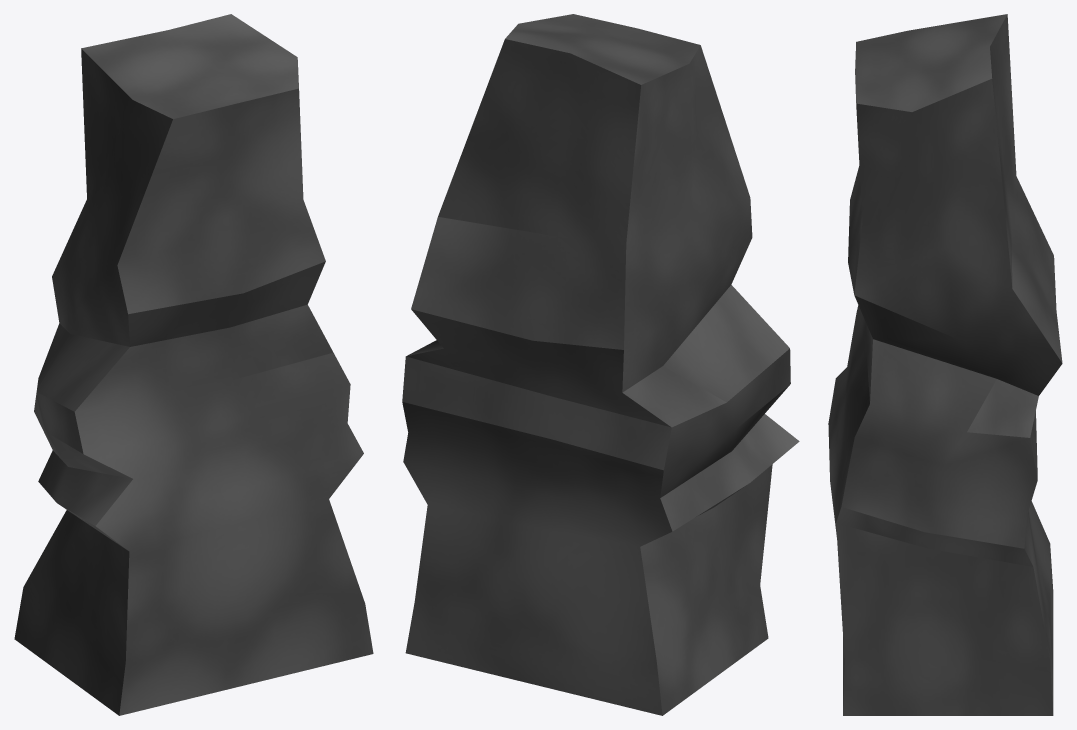
File: GAMEJAMPUFFER - LongStone 6.fbx
3 renders of one model, left to right at view 1: azimuth 30°, elevation 25°; view 2: azimuth 150°, elevation 25°; view 3: azimuth 270°, elevation 25°, orthographic.
Visible parts, largest first — view 1: Cube.005; view 2: Cube.005; view 3: Cube.005.
Boxes of the visible parts, x1,y1,x2,y2 form: Cube.005: (14, 14, 373, 715); Cube.005: (402, 14, 799, 715); Cube.005: (828, 14, 1062, 715).
Size of the model in its own units: 157 by 297 by 104.
1 material, 1 textured.
